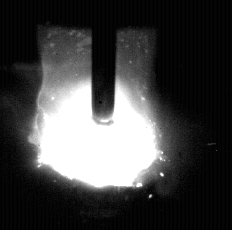arame: (92, 0, 117, 126)
poca: (36, 0, 158, 230)
